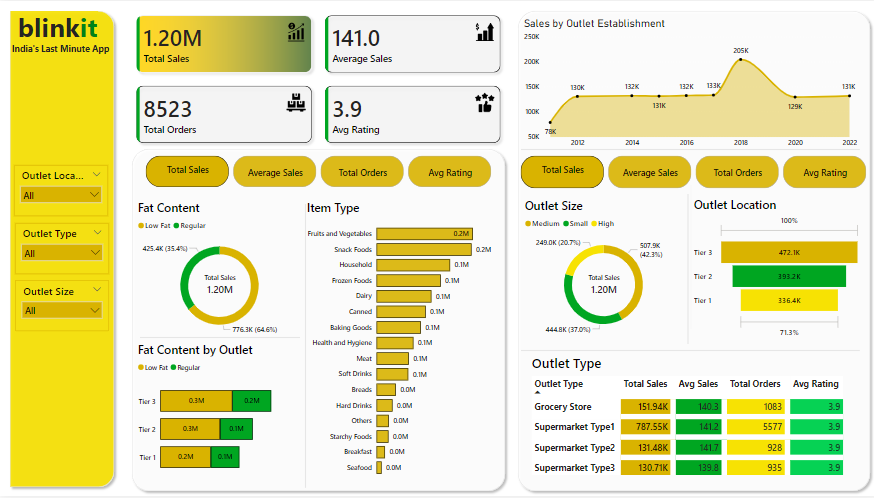

What the dashboard file says about the page in this screenshot:
{"tool":"powerbi","page":{"name":"Home","canvas":[1600,900],"ordinal":0},"visuals":[{"type":"shape","box":[10.9,9.1,207.3,883.6],"z":0},{"type":"textbox","box":[29.1,9.1,170.9,81.8],"z":1000},{"type":"textbox","box":[10.9,70.9,201.8,38.2],"z":2000},{"type":"cardVisual","fields":{"Data":["Key Measures.Total Sales","Key Measures.Average Sales","Key Measures.Total Orders","Key Measures.Avg Rating"]},"box":[232.7,9.1,696.4,267.3],"z":3000},{"type":"shape","box":[232.7,260,696.4,640],"z":4000},{"type":"advancedSlicerVisual","fields":{"Values":["Metrics.Metrics"]},"box":[261.8,276.4,638.2,67.3],"z":5000},{"type":"donutChart","title":"Fat Content","fields":{"Y":["Key Measures.Total Sales"],"Category":["BlinkIT Grocery Data.Item Fat Content"]},"box":[247.3,360,307.3,258.2],"z":6000},{"type":"barChart","title":"Fat Content by Outlet","fields":{"Y":["Key Measures.Total Sales"],"Category":["BlinkIT Grocery Data.Outlet Location Type"],"Series":["BlinkIT Grocery Data.Item Fat Content"]},"box":[247.3,618.2,307.3,258.2],"z":7000},{"type":"barChart","title":" Item Type","fields":{"Y":["Key Measures.Total Sales"],"Category":["BlinkIT Grocery Data.Item Type"]},"box":[554.5,360,345.5,516.4],"z":8000},{"type":"shape","box":[1247.3,334.5,21.8,261.8],"z":9000},{"type":"shape","box":[256.4,600,290.9,23.6],"z":10000},{"type":"shape","box":[934.5,9.1,658.2,890.9],"z":11000},{"type":"areaChart","title":"Sales by Outlet Establishment","fields":{"Category":["BlinkIT Grocery Data.Outlet Establishment Year"],"Y":["Key Measures.Total Sales"]},"box":[949.1,29.1,616.4,247.3],"z":12000},{"type":"shape","box":[949.1,263.6,616.4,12.7],"z":13000},{"type":"cardVisual","fields":{"Data":["Key Measures.Total Sales"]},"box":[354.5,476.4,94.5,76.4],"z":14000},{"type":"donutChart","title":"Outlet Size","fields":{"Y":["Key Measures.Total Sales"],"Category":["BlinkIT Grocery Data.Outlet Size"]},"box":[950.9,356.4,296.4,261.8],"z":15000},{"type":"funnel","title":"Outlet Location","fields":{"Y":["Key Measures.Total Sales"],"Category":["BlinkIT Grocery Data.Outlet Location Type"]},"box":[1258.2,354.5,312.7,263.6],"z":16000},{"type":"shape","box":[548.2,370,16.4,516.4],"z":17000},{"type":"shape","box":[1247.3,350.9,10.9,272.7],"z":18000},{"type":"shape","box":[949.1,629.1,616.4,12.7],"z":19000},{"type":"advancedSlicerVisual","fields":{"Values":["Met.Met"]},"box":[943.6,276.4,638.2,69.1],"z":20000},{"type":"pivotTable","title":"Outlet Type","fields":{"Rows":["BlinkIT Grocery Data.Outlet Type"],"Values":["Key Measures.Total Sales","Key Measures.Average Sales","Key Measures.Total Orders","Key Measures.Avg Rating"]},"box":[963.6,641.8,587.3,234.5],"z":21000},{"type":"cardVisual","fields":{"Data":["Key Measures.Total Sales"]},"box":[1052.7,476.4,94.5,76.4],"z":22000},{"type":"slicer","fields":{"Values":["BlinkIT Grocery Data.Outlet Location Type"]},"box":[27.3,298.2,170.9,92.7],"z":23000},{"type":"slicer","fields":{"Values":["BlinkIT Grocery Data.Outlet Type"]},"box":[29.1,403.6,170.9,92.7],"z":24000},{"type":"slicer","fields":{"Values":["BlinkIT Grocery Data.Outlet Size"]},"box":[29.1,507.3,170.9,92.7],"z":25000}]}

Visuals, with their boxes in screenshot pixels (x1, y1, x2, y2), scaled from the page's 1600x900 canvas onto the 874x498 screenshot:
shape: <bbox>6, 5, 119, 494</bbox>
textbox: <bbox>16, 5, 109, 50</bbox>
textbox: <bbox>6, 39, 116, 60</bbox>
cardVisual - Key Measures.Total Sales x Key Measures.Average Sales: <bbox>127, 5, 508, 153</bbox>
shape: <bbox>127, 144, 508, 497</bbox>
advancedSlicerVisual - Metrics.Metrics: <bbox>143, 153, 492, 190</bbox>
"Fat Content" donutChart: <bbox>135, 199, 303, 342</bbox>
"Fat Content by Outlet" barChart: <bbox>135, 342, 303, 485</bbox>
" Item Type" barChart: <bbox>303, 199, 492, 485</bbox>
shape: <bbox>681, 185, 693, 330</bbox>
shape: <bbox>140, 332, 299, 345</bbox>
shape: <bbox>510, 5, 870, 497</bbox>
"Sales by Outlet Establishment" areaChart: <bbox>518, 16, 855, 153</bbox>
shape: <bbox>518, 146, 855, 153</bbox>
cardVisual - Key Measures.Total Sales: <bbox>194, 264, 245, 306</bbox>
"Outlet Size" donutChart: <bbox>519, 197, 681, 342</bbox>
"Outlet Location" funnel: <bbox>687, 196, 858, 342</bbox>
shape: <bbox>299, 205, 308, 490</bbox>
shape: <bbox>681, 194, 687, 345</bbox>
shape: <bbox>518, 348, 855, 355</bbox>
advancedSlicerVisual - Met.Met: <bbox>515, 153, 864, 191</bbox>
"Outlet Type" pivotTable: <bbox>526, 355, 847, 485</bbox>
cardVisual - Key Measures.Total Sales: <bbox>575, 264, 627, 306</bbox>
slicer - BlinkIT Grocery Data.Outlet Location Type: <bbox>15, 165, 108, 216</bbox>
slicer - BlinkIT Grocery Data.Outlet Type: <bbox>16, 223, 109, 275</bbox>
slicer - BlinkIT Grocery Data.Outlet Size: <bbox>16, 281, 109, 332</bbox>
